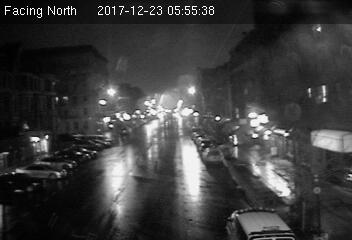car: (200, 146, 223, 165)
police: (222, 203, 301, 240)
